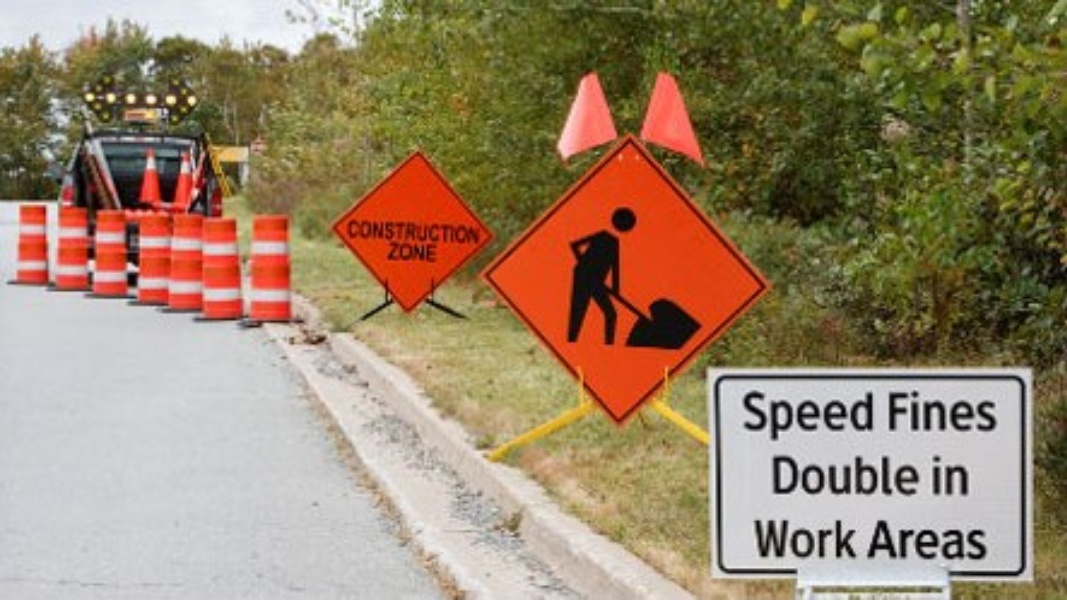text: (753, 388, 768, 444), (769, 388, 784, 444), (785, 388, 800, 444), (801, 388, 816, 444), (817, 388, 832, 444), (833, 388, 848, 444), (849, 388, 864, 444), (897, 388, 912, 432), (913, 388, 928, 432), (929, 388, 944, 432), (945, 388, 960, 432), (961, 388, 976, 432), (977, 388, 992, 432), (785, 454, 800, 497), (801, 454, 816, 497), (817, 454, 832, 497), (833, 454, 848, 497), (849, 454, 864, 497), (865, 454, 880, 497), (881, 454, 896, 497), (897, 454, 912, 497), (945, 454, 960, 497), (865, 519, 880, 562), (881, 519, 896, 562), (897, 519, 912, 562), (913, 519, 928, 562), (929, 519, 944, 562), (945, 519, 960, 562), (961, 519, 976, 562), (753, 519, 768, 560), (769, 519, 784, 560), (785, 519, 800, 560), (801, 519, 816, 560), (817, 519, 832, 560), (833, 519, 848, 560), (930, 454, 944, 497), (742, 388, 752, 444), (865, 388, 875, 444), (771, 454, 784, 497), (977, 519, 988, 562), (961, 454, 971, 497), (353, 217, 368, 244), (369, 217, 384, 244), (385, 217, 400, 244), (401, 217, 416, 244), (417, 217, 432, 244), (433, 217, 448, 244), (449, 217, 464, 244), (465, 217, 480, 244), (887, 388, 896, 432), (849, 519, 858, 560), (913, 454, 921, 497), (401, 241, 416, 261), (417, 241, 432, 261), (388, 241, 400, 261), (993, 388, 998, 432), (347, 217, 352, 244), (481, 217, 485, 244), (433, 241, 436, 261)
